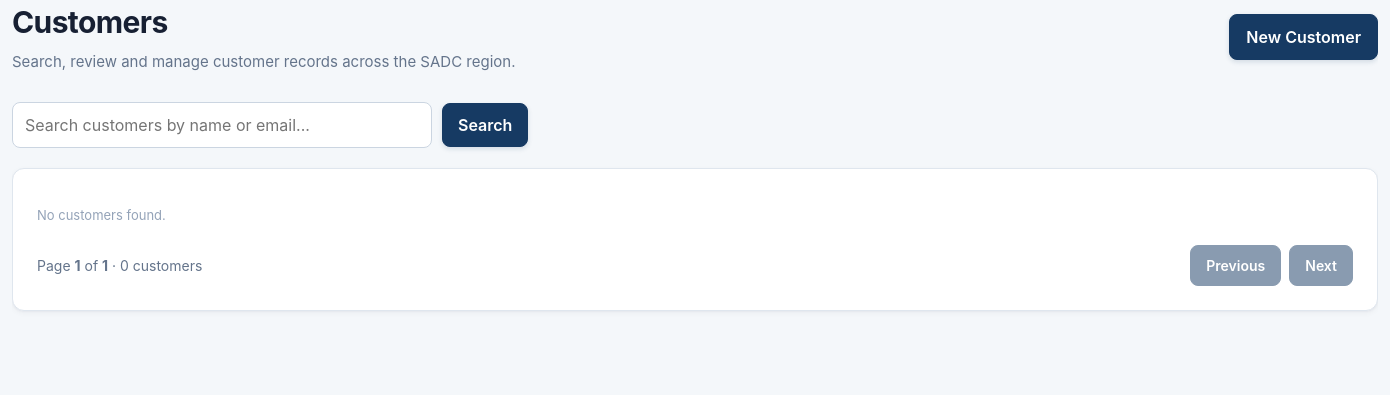
Test case: CustomersPage › searches customers by the entered search value
Check: the text "No customers found." is shown, box [37,206,166,222]
Type "Amrod" into the search field labelled "Search customers by name or email...".
click(222, 124); type("Amrod")  # box [12,102,432,148]
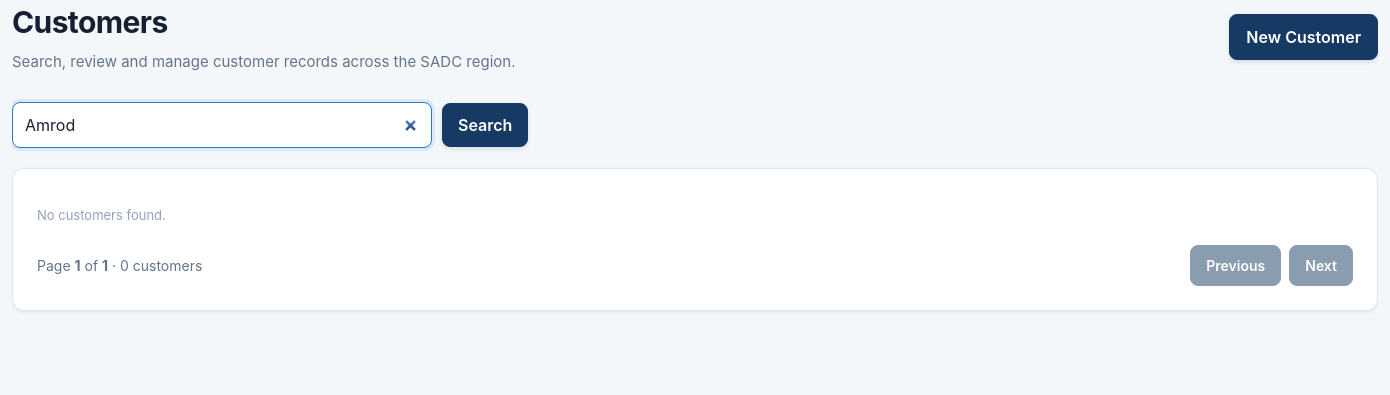
Click the button "Search".
click(485, 124)  # box [442,102,528,146]
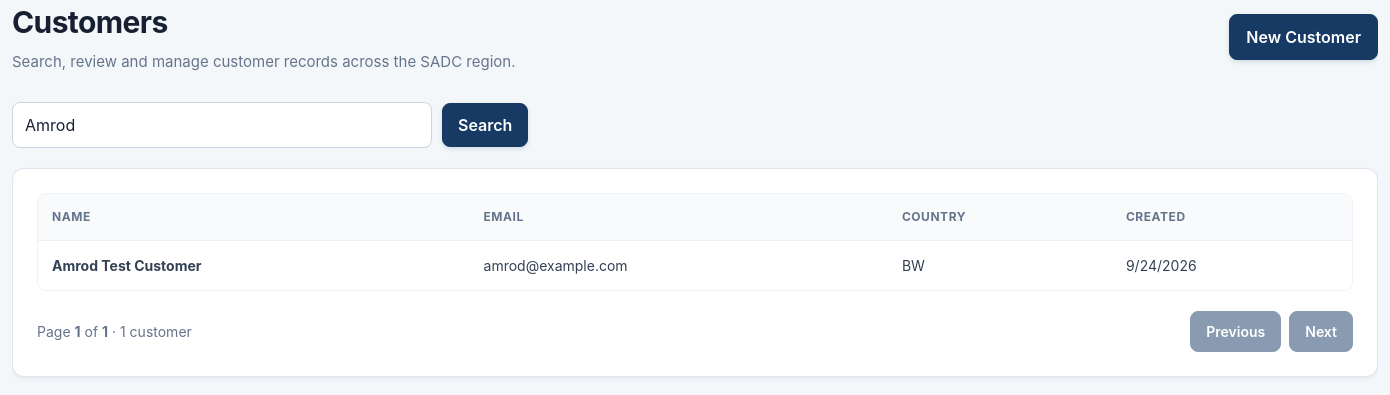
Check: the text "Amrod Test Customer" is shown, box [52,256,202,274]
